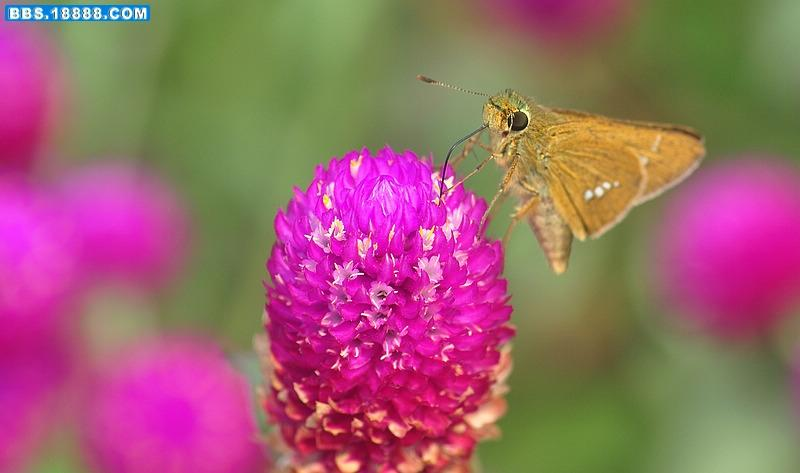Hesperiidae: (413, 71, 712, 275)
